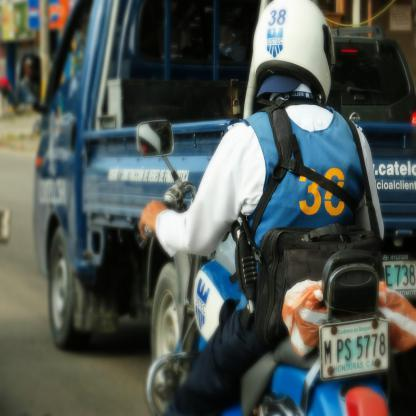motorcycle: (144, 47, 399, 416)
